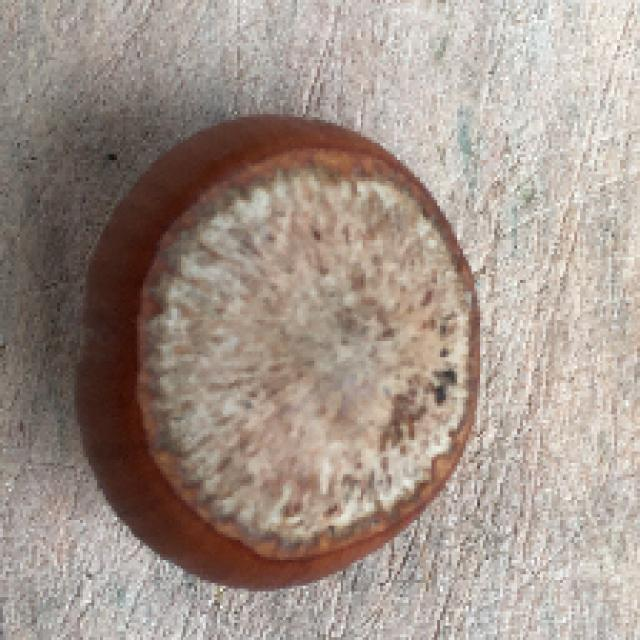qualityHazelnut: (77, 105, 491, 585)
